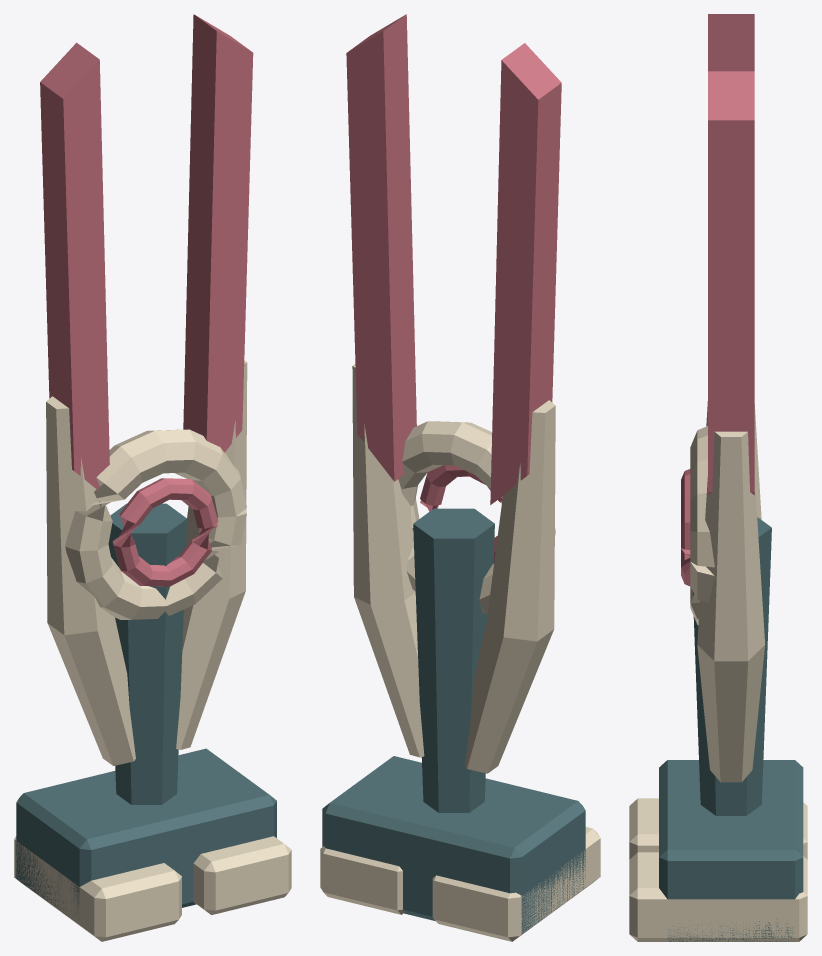
File: marker_key.glb
The picture shows the model from 3 angles, left to right: view 1: azimuth 30°, elevation 25°; view 2: azimuth 150°, elevation 25°; view 3: azimuth 270°, elevation 25°; orthographic projection.
Parts seen in each view (by area): view 1: marker_key_blood, marker_key_bone, marker_key_iron; view 2: marker_key_blood, marker_key_bone, marker_key_iron; view 3: marker_key_bone, marker_key_iron, marker_key_blood.
Part boxes in pixels (x1,y1,x2,y2): marker_key_blood: (40,14,253,586); marker_key_bone: (14,360,291,941); marker_key_iron: (16,503,276,920); marker_key_blood: (346,14,561,563); marker_key_bone: (320,364,600,941); marker_key_iron: (322,508,585,933); marker_key_bone: (629,401,807,941); marker_key_iron: (659,517,803,941); marker_key_blood: (681,14,754,586).
Bounding box in the file's own units: 0.27 × 1.11 × 0.21.
